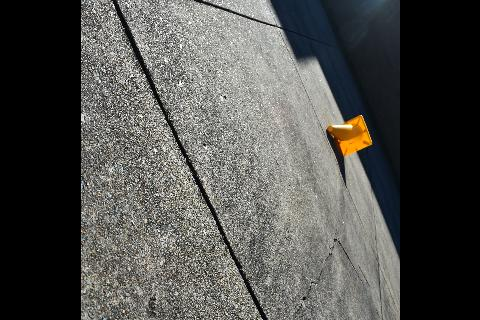cone: (327, 116, 371, 156)
